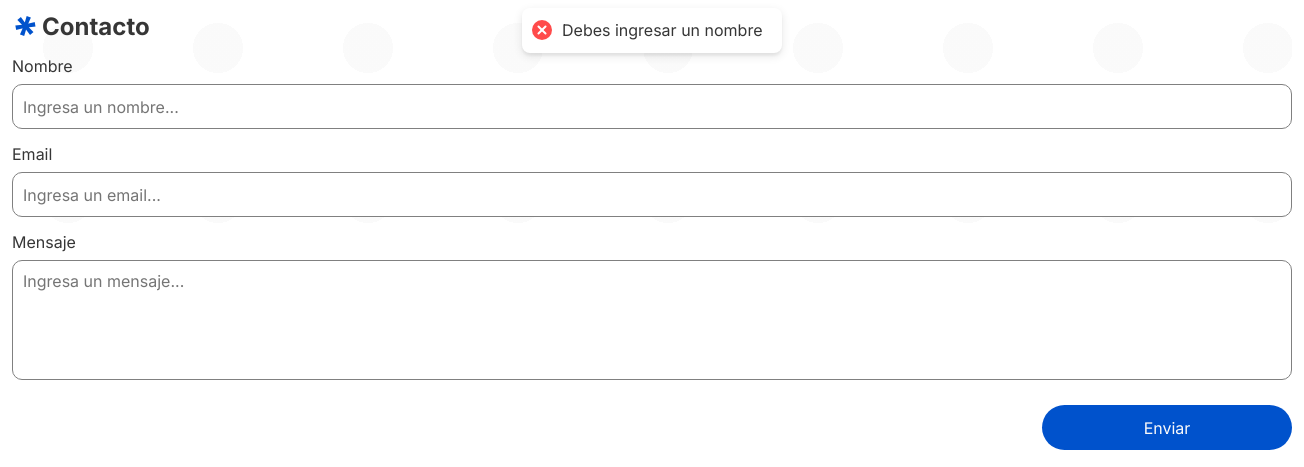
Test case: Contact form component › shows an email error
Type "Nombre" into the field with placeholder "Ingresa un nombre..." at (652, 106), box [12,84,1292,129]
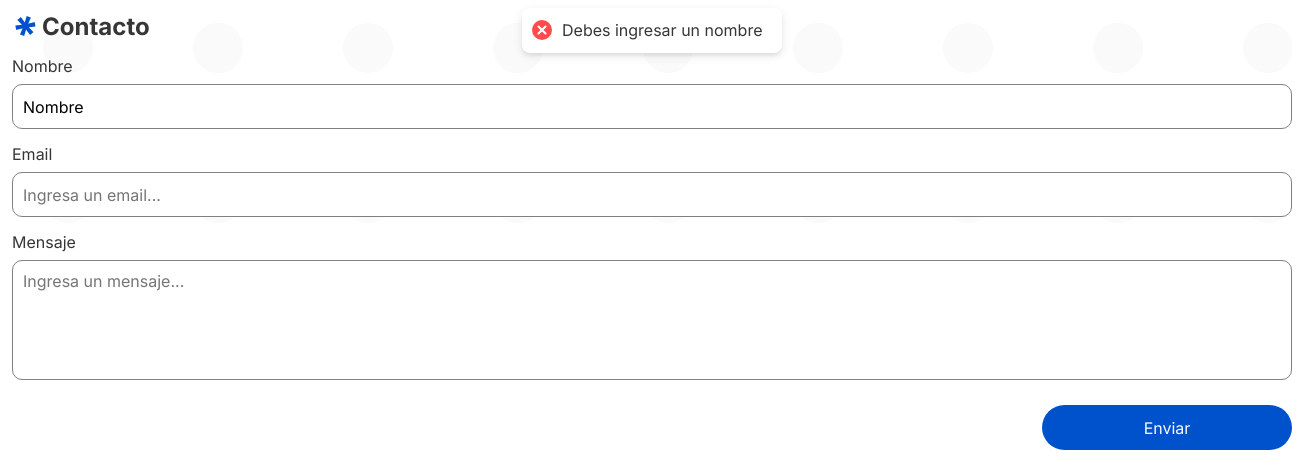
Click the button at (1167, 428), box [1042,405,1292,450]
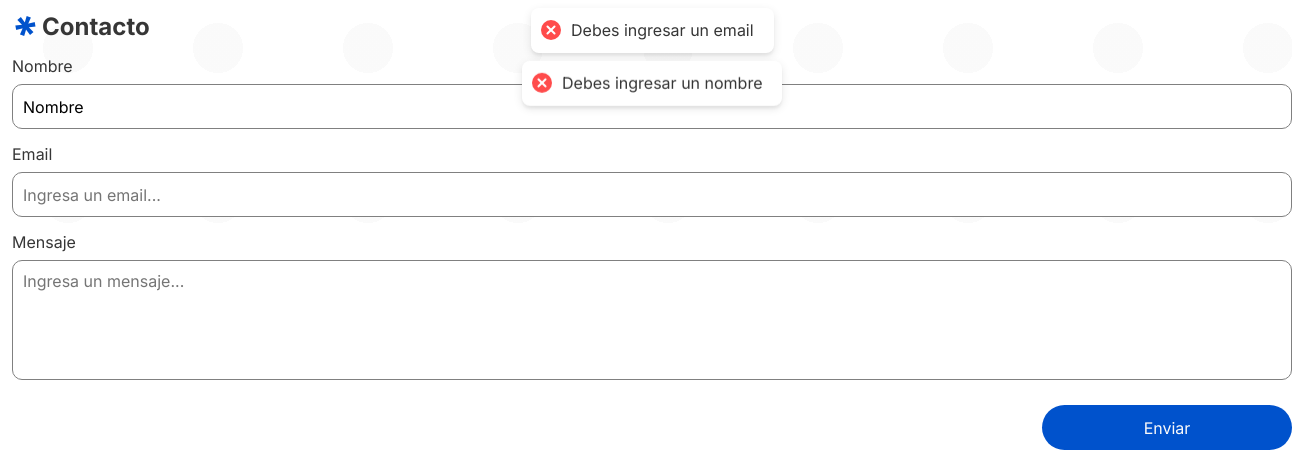
Now the text "Debes ingresar un email" is shown, box [571,20,753,41]
